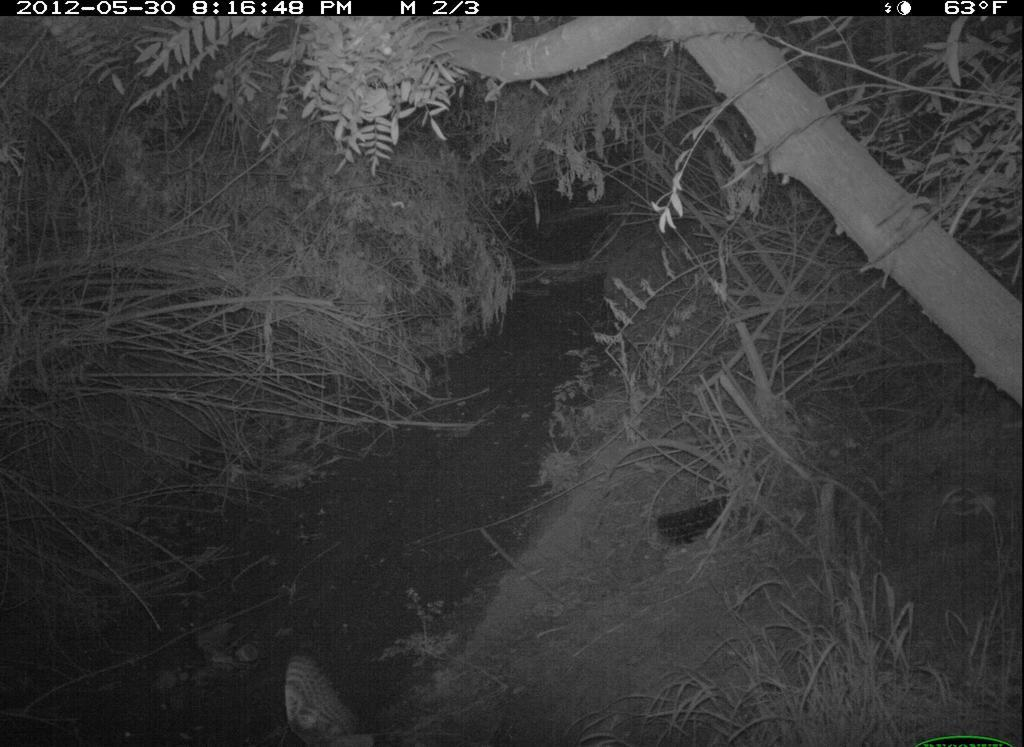bird: (279, 646, 383, 747)
